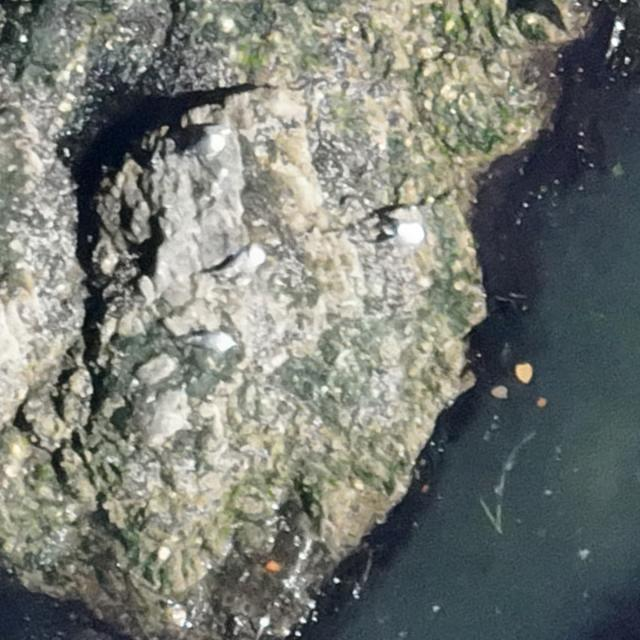umineko: (219, 247, 262, 280), (383, 223, 426, 243), (187, 135, 225, 156), (192, 332, 230, 350)
